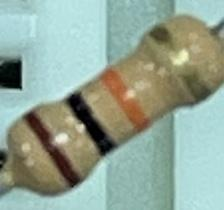Black: (63, 86, 119, 159)
Brown: (21, 108, 87, 191)
Orange: (97, 61, 154, 136)
Side-Gold: (147, 19, 214, 106)
